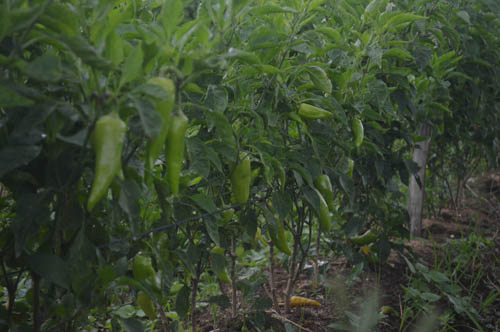ChiliPepper: (90, 114, 129, 208), (148, 78, 164, 173), (166, 113, 182, 195), (231, 155, 251, 206), (268, 209, 290, 253), (310, 191, 331, 227), (318, 171, 336, 201), (352, 112, 366, 145), (295, 104, 326, 118)
